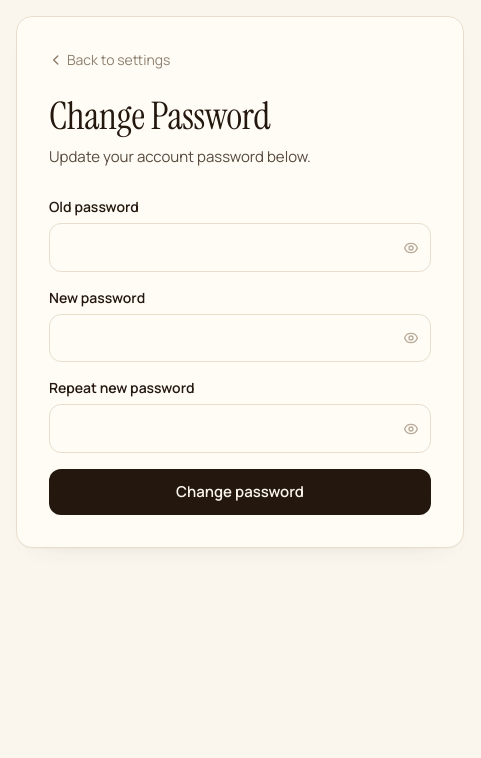
Test case: ChangePasswordPage › shows error message when password change fails due to incorrect current password
Type "wrongpass" into the password field labelled "Old password" at (240, 248), box [49, 223, 431, 272]
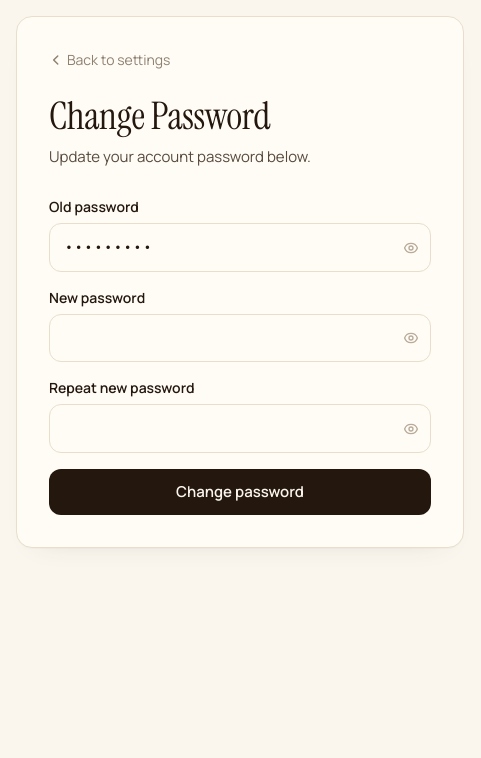
Type "newpass456" into the password field labelled "New password" at (240, 338), box [49, 314, 431, 362]
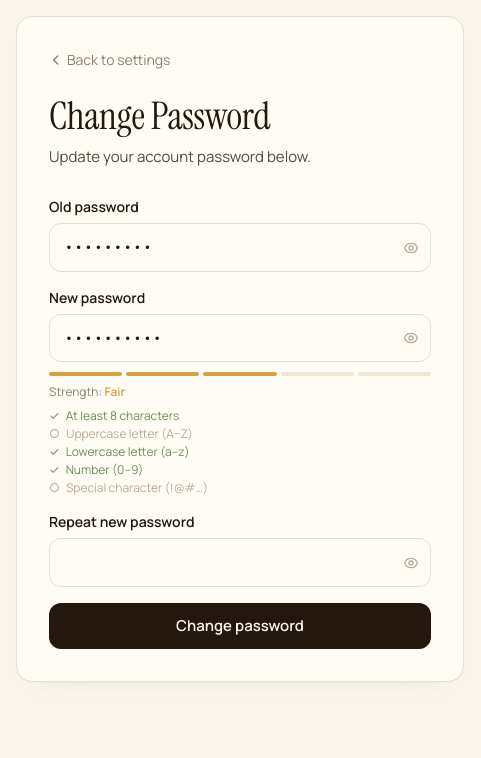
Type "newpass456" into the password field labelled "Repeat new password" at (240, 563), box [49, 538, 431, 587]
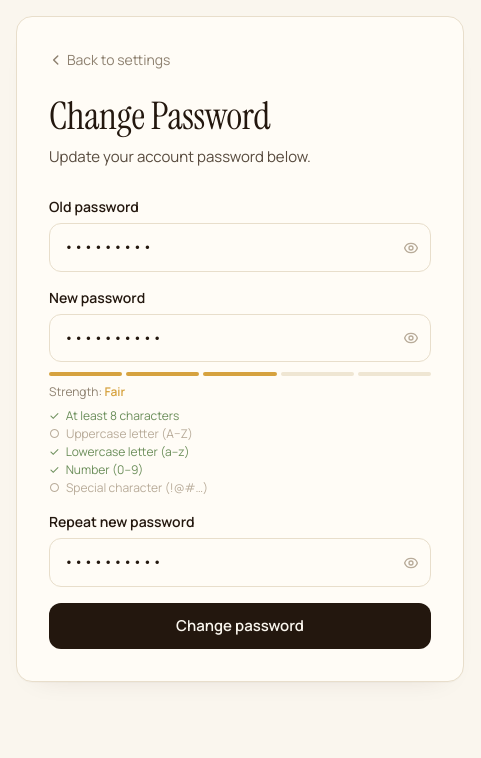
Click the button "Change password" at (240, 626), box [49, 603, 431, 649]
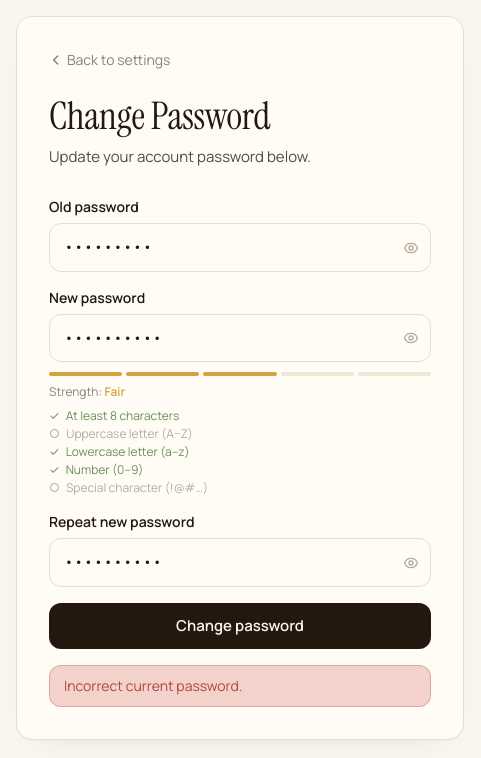
Expected: the text "Incorrect current password." is shown, [49, 665, 431, 707]
